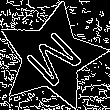M_SE: (17, 23, 86, 91)
